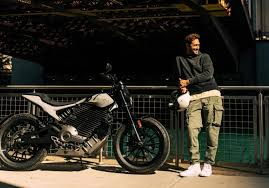motorcycle: (1, 54, 171, 172)
